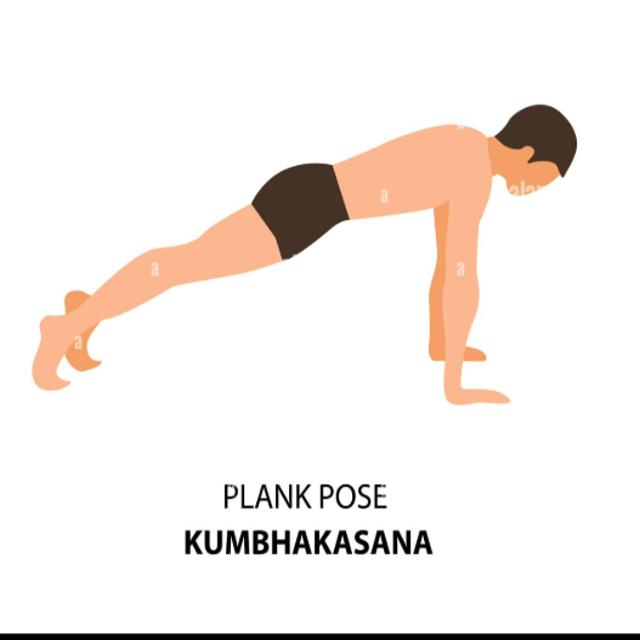Plank_Pose: (23, 95, 582, 414)
